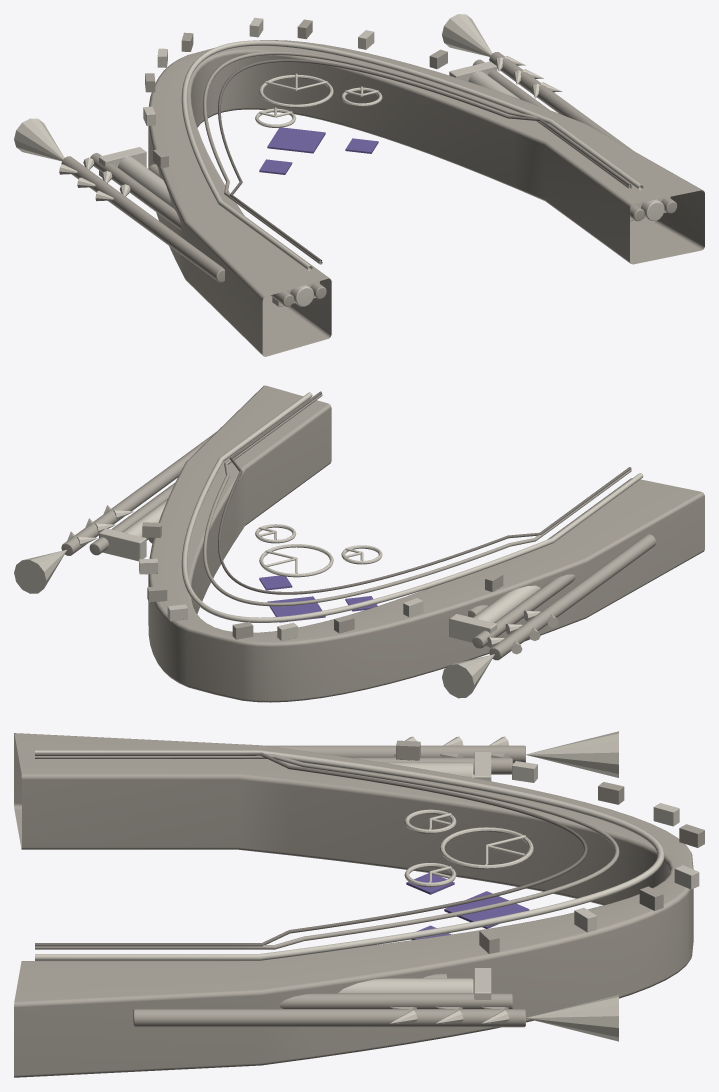
The model's file is gothic_pointed_arch.glb.
The picture shows the model from 3 angles, top to bottom: view 1: azimuth 30°, elevation 25°; view 2: azimuth 150°, elevation 25°; view 3: azimuth 270°, elevation 25°; orthographic projection. The views are drawn at different scales.
Parts seen in each view (by area): view 1: deep hollow pointed arch with bevelled reveal, nested pointed moulding 1.00, slender outer pinnacle shaft, nested pointed moulding 0.93, nested pointed moulding 0.88, slender outer pinnacle shaft.001, clustered jamb shaft L 1, clustered jamb shaft L 0, crocketed pinnacle cap, crocketed pinnacle cap.001, recessed colored glass lozenge, clustered jamb shaft R 0 (+3 smaller); view 2: deep hollow pointed arch with bevelled reveal, nested pointed moulding 1.00, slender outer pinnacle shaft, nested pointed moulding 0.93, nested pointed moulding 0.88, slender outer pinnacle shaft.001, clustered jamb shaft L 1, crocketed pinnacle cap.001, crocketed pinnacle cap, gothic base capital block.003, clustered jamb shaft L 0, gothic base capital block.001 (+4 smaller); view 3: deep hollow pointed arch with bevelled reveal, nested pointed moulding 1.00, slender outer pinnacle shaft.001, nested pointed moulding 0.93, nested pointed moulding 0.88, clustered jamb shaft R 1, slender outer pinnacle shaft, crocketed pinnacle cap, crocketed pinnacle cap.001, clustered jamb shaft R 0, recessed colored glass lozenge, stone circular tracery (+5 smaller).
Boxes of the visible parts, <box> form: deep hollow pointed arch with bevelled reveal: <box>148,40,704,356</box>; nested pointed moulding 1.00: <box>181,40,643,270</box>; slender outer pinnacle shaft: <box>61,156,224,282</box>; nested pointed moulding 0.93: <box>203,51,631,264</box>; nested pointed moulding 0.88: <box>218,59,631,262</box>; slender outer pinnacle shaft.001: <box>489,52,633,150</box>; clustered jamb shaft L 1: <box>90,153,294,306</box>; clustered jamb shaft L 0: <box>118,156,313,306</box>; crocketed pinnacle cap: <box>14,118,64,161</box>; crocketed pinnacle cap.001: <box>442,14,492,56</box>; recessed colored glass lozenge: <box>267,127,325,153</box>; clustered jamb shaft R 0: <box>468,71,664,221</box>; deep hollow pointed arch with bevelled reveal: <box>148,385,704,702</box>; nested pointed moulding 1.00: <box>181,392,643,622</box>; slender outer pinnacle shaft: <box>489,534,656,660</box>; nested pointed moulding 0.93: <box>203,394,631,606</box>; nested pointed moulding 0.88: <box>218,391,631,594</box>; slender outer pinnacle shaft.001: <box>61,432,215,555</box>; clustered jamb shaft L 1: <box>472,574,575,648</box>; crocketed pinnacle cap.001: <box>14,549,66,593</box>; crocketed pinnacle cap: <box>442,654,494,698</box>; gothic base capital block.003: <box>99,528,146,561</box>; clustered jamb shaft L 0: <box>473,585,540,622</box>; gothic base capital block.001: <box>449,614,497,646</box>; deep hollow pointed arch with bevelled reveal: <box>14,733,693,1077</box>; nested pointed moulding 1.00: <box>35,750,664,960</box>; slender outer pinnacle shaft.001: <box>133,1009,525,1027</box>; nested pointed moulding 0.93: <box>35,754,619,949</box>; nested pointed moulding 0.88: <box>35,752,587,946</box>; clustered jamb shaft R 1: <box>280,993,512,1008</box>; slender outer pinnacle shaft: <box>265,745,525,763</box>; crocketed pinnacle cap: <box>526,731,618,777</box>; crocketed pinnacle cap.001: <box>526,995,618,1041</box>; clustered jamb shaft R 0: <box>338,978,473,993</box>; recessed colored glass lozenge: <box>444,891,529,928</box>; stone circular tracery: <box>440,827,533,869</box>.
Bounding box in the file's own units: 5.14 × 0.8314 × 5.28.
